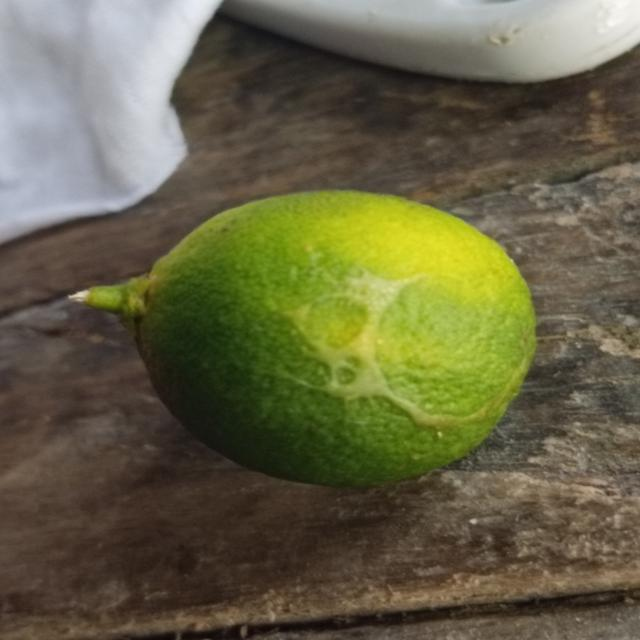thrips: (129, 183, 535, 490)
